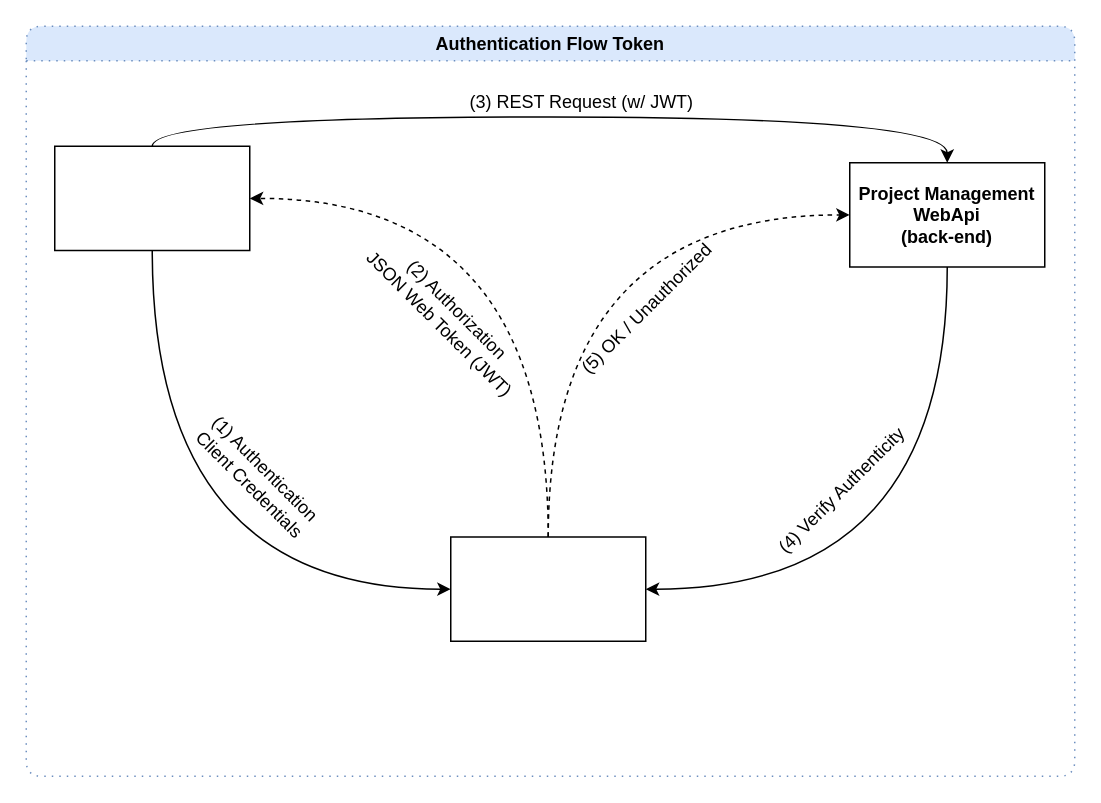
This 1101x803 diagram has some shape labels left out. The shapes that lost their labels are listed below. From the top down, each one's box as (x1, y1, x2, y2) in pixels, then its label:
(53, 145, 250, 250): DevOps WebApi (back-end)
(449, 536, 646, 641): PRIMAVERA Identity Server
